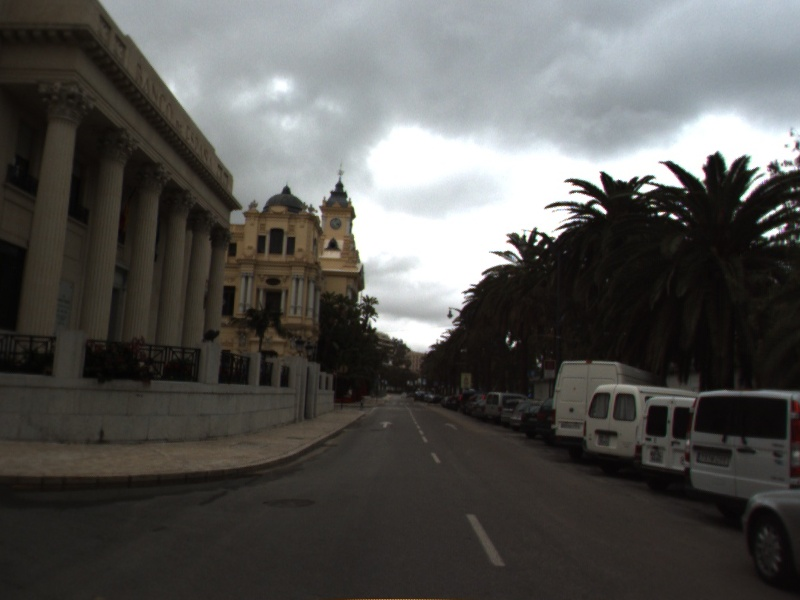STRAIGHT: (378, 419, 394, 430), (443, 421, 459, 432)
